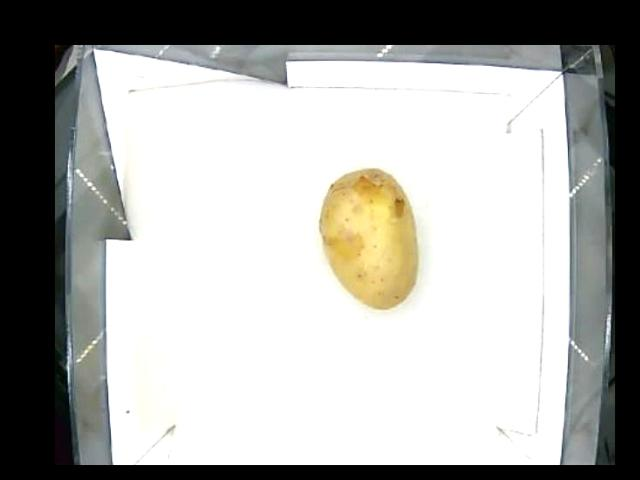Potato: (316, 167, 418, 311)
